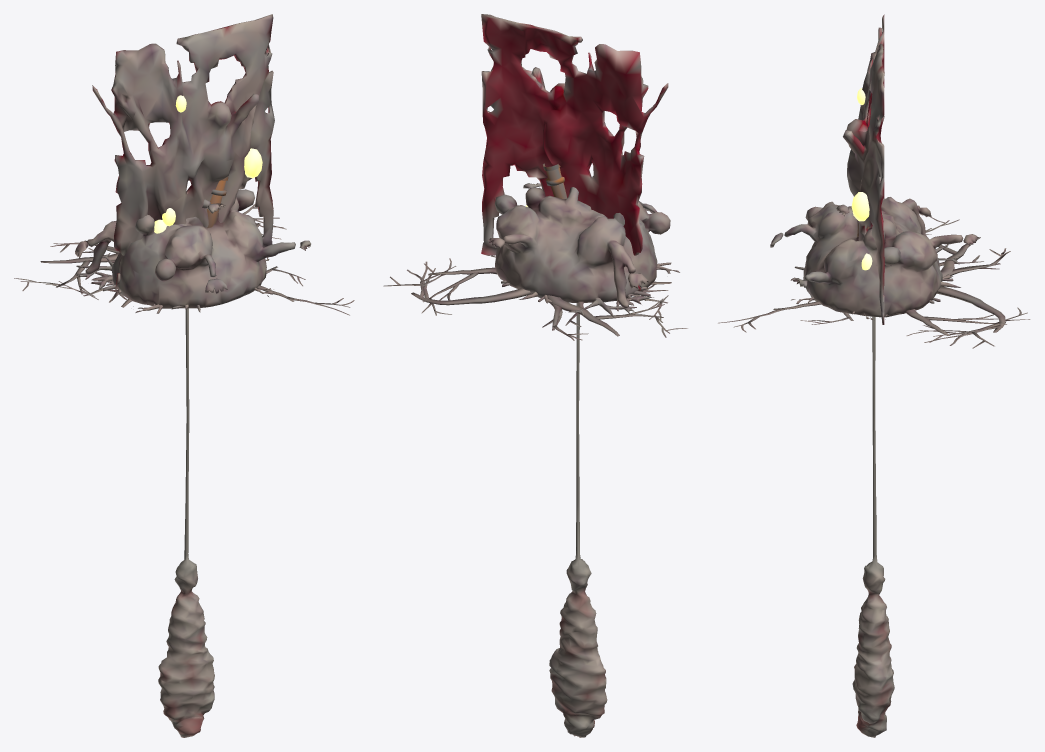
File: growths.glb
3 views of the same model, side by side, from view 1: azimuth 30°, elevation 25°; view 2: azimuth 150°, elevation 25°; view 3: azimuth 270°, elevation 25° (orthographic). The views are drawn at different scales.
Visible parts, largest first — view 1: growth_wall, growth_mound, cocoon_hanging, growth_tendrils; view 2: growth_wall, growth_mound, cocoon_hanging, growth_tendrils, growth_pods_b; view 3: growth_mound, growth_wall, cocoon_hanging, growth_tendrils.
Part boxes in pixels (x1,y1,x2,y2): growth_wall: (92,14,274,289); growth_mound: (75,176,310,308); cocoon_hanging: (158,308,214,737); growth_tendrils: (14,204,354,315); growth_wall: (481,14,668,291); growth_mound: (488,163,670,308); cocoon_hanging: (549,303,607,737); growth_tendrils: (383,258,687,340); growth_pods_b: (491,255,679,317); growth_mound: (770,197,977,317); growth_wall: (843,14,884,324); cocoon_hanging: (852,316,894,737); growth_tendrils: (718,216,1030,348).
Size of the model in its own units: 3 by 7.31 by 3.
